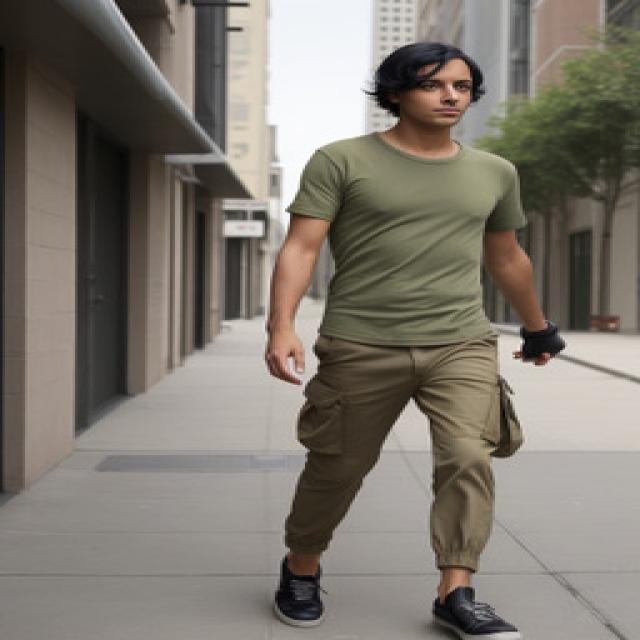Ai human 2: (243, 33, 570, 640)
